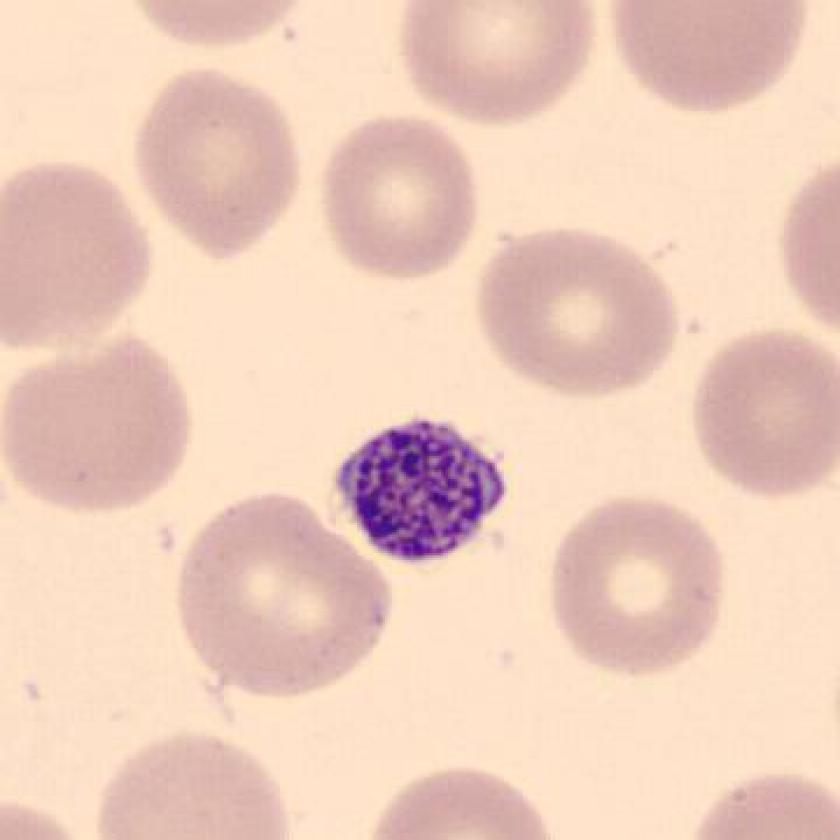platelets: (325, 404, 519, 575)
